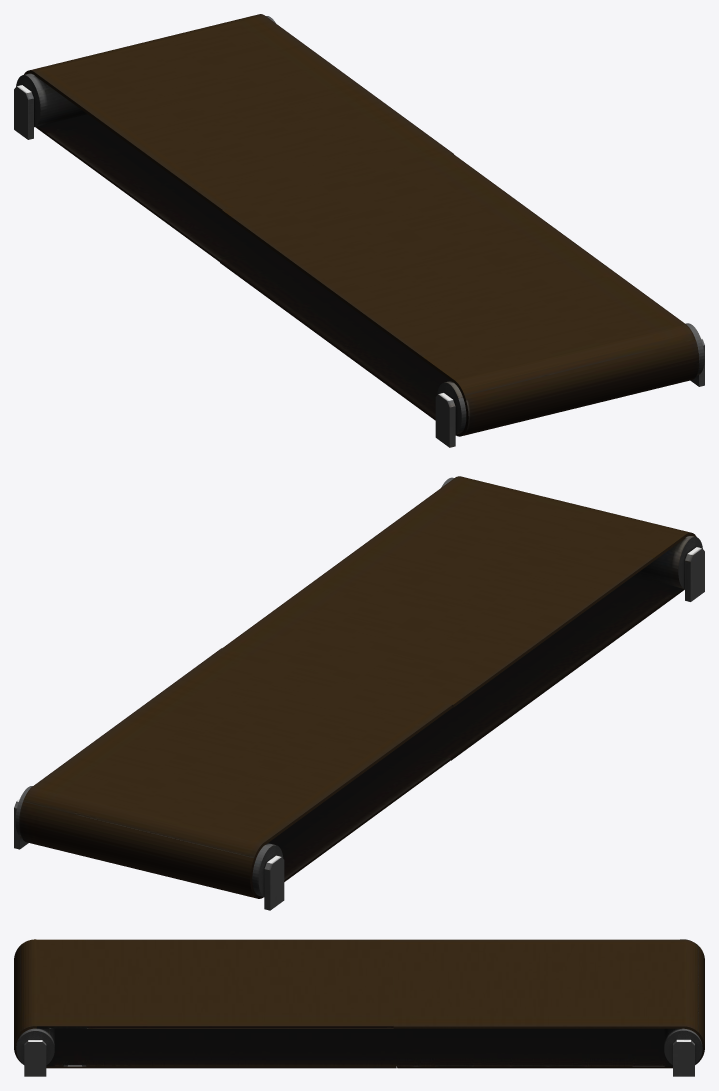
3 views of the same model, one above another, from view 1: azimuth 30°, elevation 25°; view 2: azimuth 150°, elevation 25°; view 3: azimuth 270°, elevation 25° (orthographic). The views are drawn at different scales.
Parts seen in each view (by area): view 1: Cylinder; view 2: Cylinder; view 3: Cylinder.
Part boxes in pixels (x1,y1,x2,y2): Cylinder: (14,14,704,447); Cylinder: (14,476,704,910); Cylinder: (14,939,704,1076).
Bounding box in the file's own units: 11.88 × 36.04 × 2.64.
Materials: 1 (1 with a texture image).
